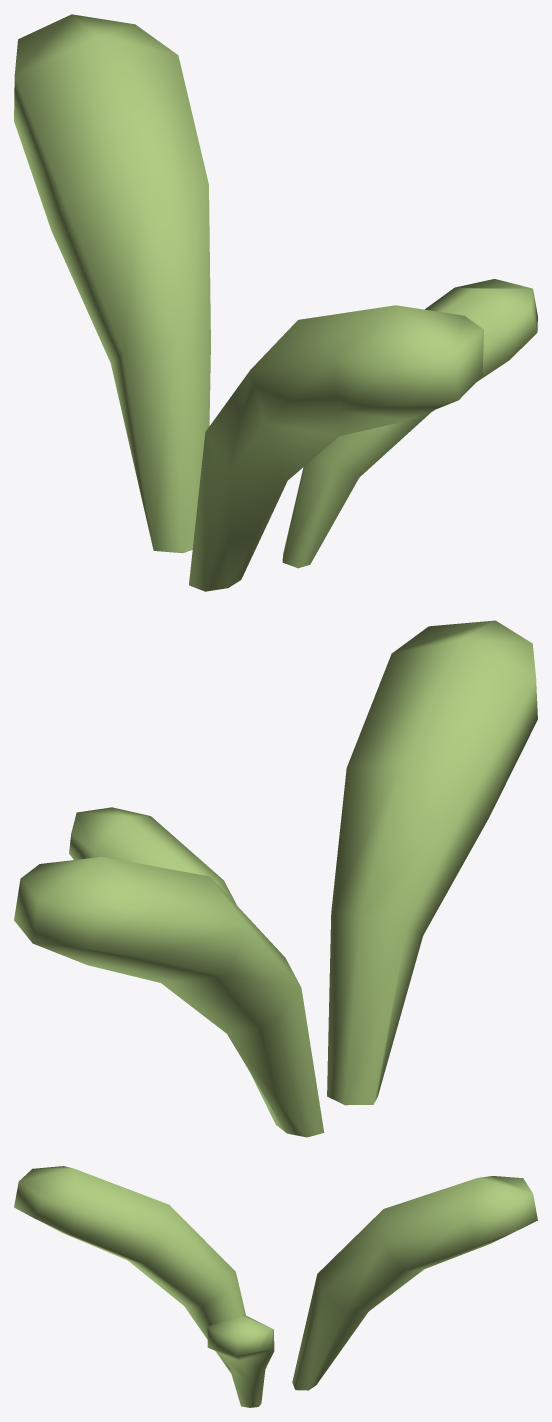
File: SM_Grass_Tropical_Light2.fbx
3 renders of one model, top to bottom at view 1: azimuth 30°, elevation 25°; view 2: azimuth 150°, elevation 25°; view 3: azimuth 270°, elevation 25°, orthographic. The views are drawn at different scales.
Parts seen in each view (by area): view 1: SM_Grass_Tropical_Light2; view 2: SM_Grass_Tropical_Light2; view 3: SM_Grass_Tropical_Light2.
Boxes of the visible parts, x1=… form: SM_Grass_Tropical_Light2: x1=14, y1=14, x2=537, y2=591; SM_Grass_Tropical_Light2: x1=14, y1=620, x2=537, y2=1137; SM_Grass_Tropical_Light2: x1=14, y1=1166, x2=537, y2=1407.
Size of the model in its own units: 0.4353 by 0.4418 by 0.9313.
